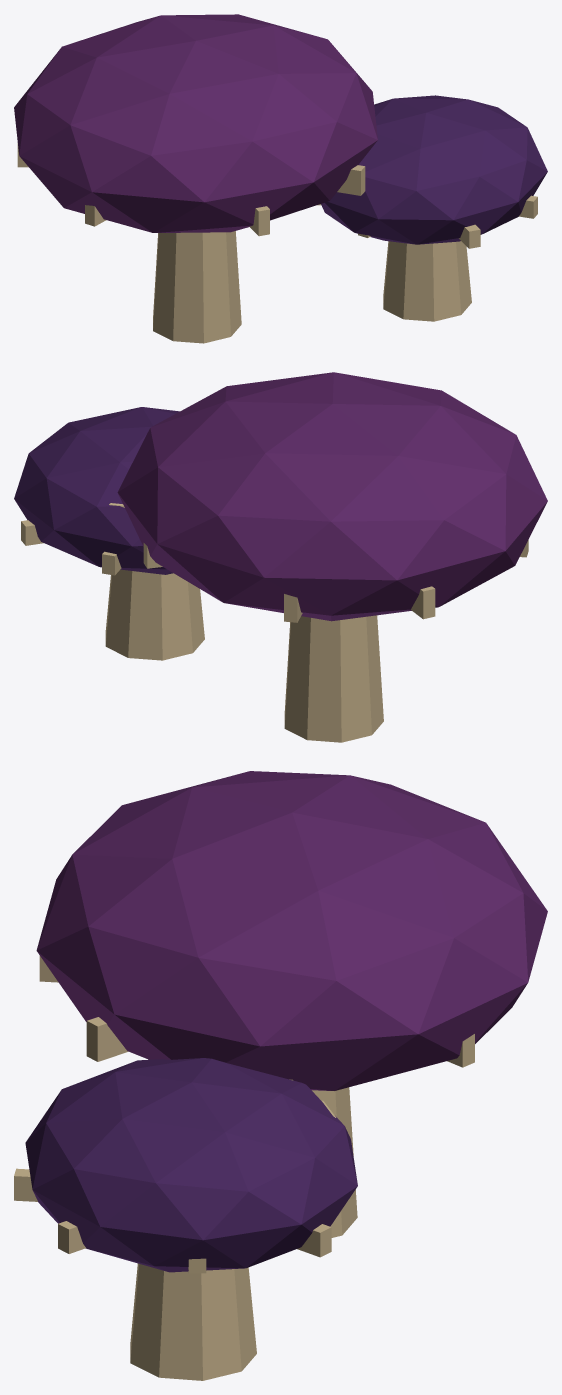
Rendered from pickup_mushroom.glb.
3 views of the same model, one above another, from view 1: azimuth 30°, elevation 25°; view 2: azimuth 150°, elevation 25°; view 3: azimuth 270°, elevation 25° (orthographic). The views are drawn at different scales.
Parts seen in each view (by area): view 1: Cap_1, Cap_2, Stem_1, Stem_2, Gill_1_7, Gill_1_6, Gill_2_6; view 2: Cap_1, Cap_2, Stem_1, Stem_2, Gill_1_4; view 3: Cap_1, Cap_2, Stem_2, Stem_1, Gill_1_7, Gill_2_2.
Part boxes in pixels (x1=…): Cap_1: x1=14, y1=14, x2=377, y2=232; Cap_2: x1=321, y1=95, x2=547, y2=244; Stem_1: x1=153, y1=231, x2=241, y2=343; Stem_2: x1=383, y1=241, x2=471, y2=321; Gill_1_7: x1=337, y1=165, x2=365, y2=195; Gill_1_6: x1=249, y1=206, x2=269, y2=236; Gill_2_6: x1=459, y1=224, x2=480, y2=248; Cap_1: x1=117, y1=372, x2=547, y2=621; Cap_2: x1=14, y1=407, x2=179, y2=574; Stem_1: x1=284, y1=615, x2=383, y2=742; Stem_2: x1=105, y1=569, x2=204, y2=660; Gill_1_4: x1=411, y1=586, x2=435, y2=619; Cap_1: x1=36, y1=771, x2=547, y2=1090; Cap_2: x1=25, y1=1058, x2=357, y2=1272; Stem_2: x1=130, y1=1263, x2=256, y2=1380; Stem_1: x1=312, y1=1087, x2=357, y2=1237; Gill_1_7: x1=86, y1=1017, x2=128, y2=1061; Gill_2_2: x1=297, y1=1224, x2=331, y2=1257.
Bounding box in the file's own units: 0.1541 × 0.0889 × 0.1062.
